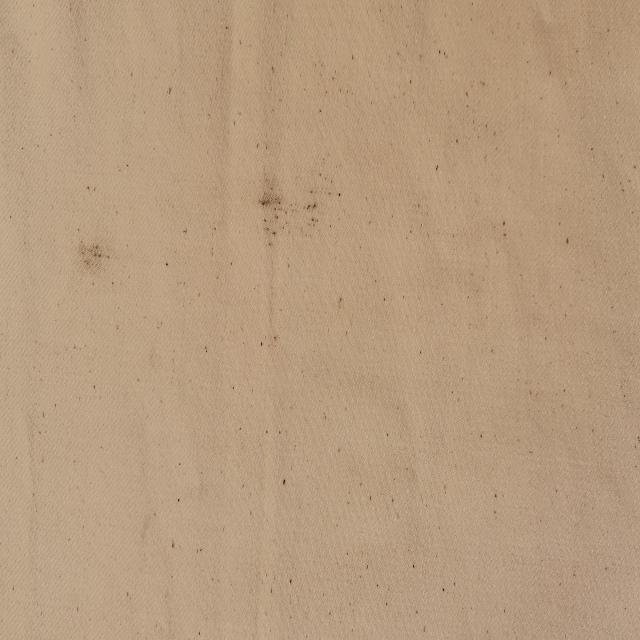taaaches: (250, 174, 334, 284), (72, 219, 122, 304)
